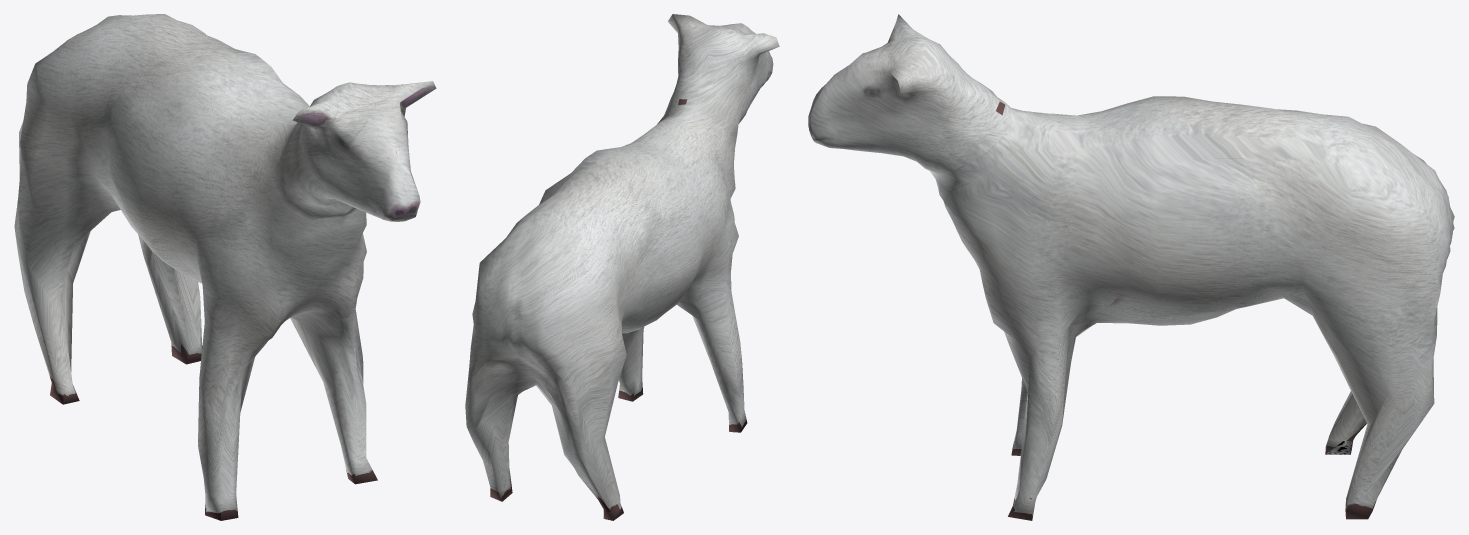
The model's file is p0ss-sheep2-static.glb.
3 views of the same model, side by side, from view 1: azimuth 30°, elevation 25°; view 2: azimuth 150°, elevation 25°; view 3: azimuth 270°, elevation 25° (orthographic). The views are drawn at different scales.
Visible parts, largest first — view 1: p0ss_Sheep2_complete_body_STATIC_review; view 2: p0ss_Sheep2_complete_body_STATIC_review; view 3: p0ss_Sheep2_complete_body_STATIC_review.
Part boxes in pixels (x1,y1,x2,y2): p0ss_Sheep2_complete_body_STATIC_review: (14, 14, 436, 520); p0ss_Sheep2_complete_body_STATIC_review: (465, 14, 779, 520); p0ss_Sheep2_complete_body_STATIC_review: (808, 14, 1454, 520).
Bounding box in the file's own units: 0.7743 × 1.83 × 2.38.
Materials: 1 (1 with a texture image).
